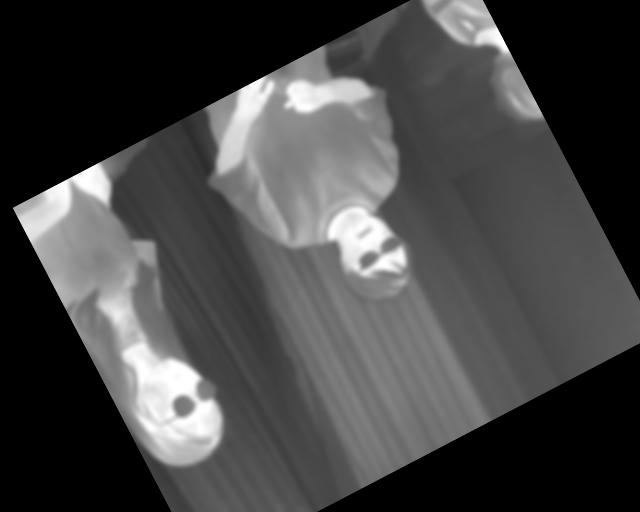face: (113, 345, 241, 481), (322, 200, 427, 313)
